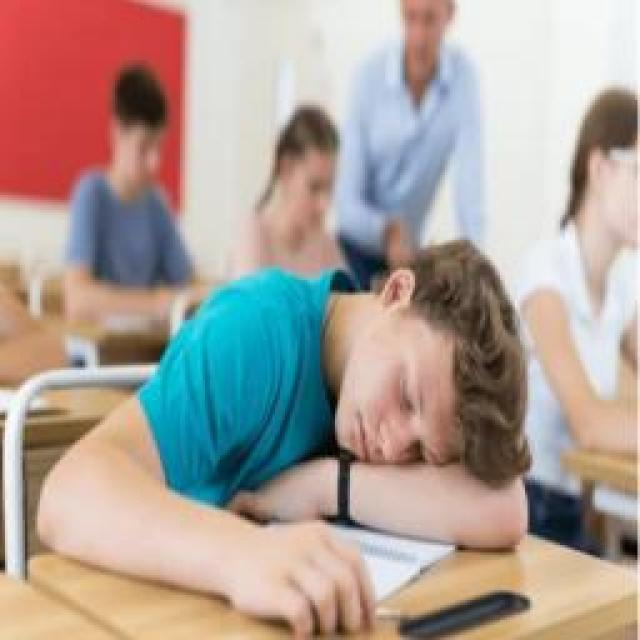sleep: (45, 232, 533, 640)
